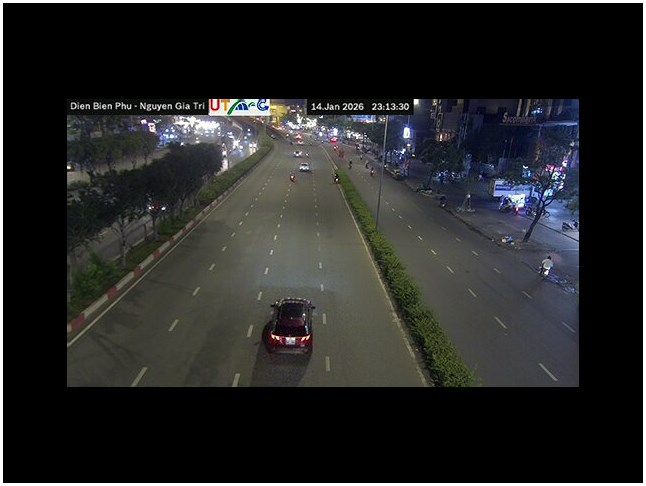car: (262, 295, 315, 353)
